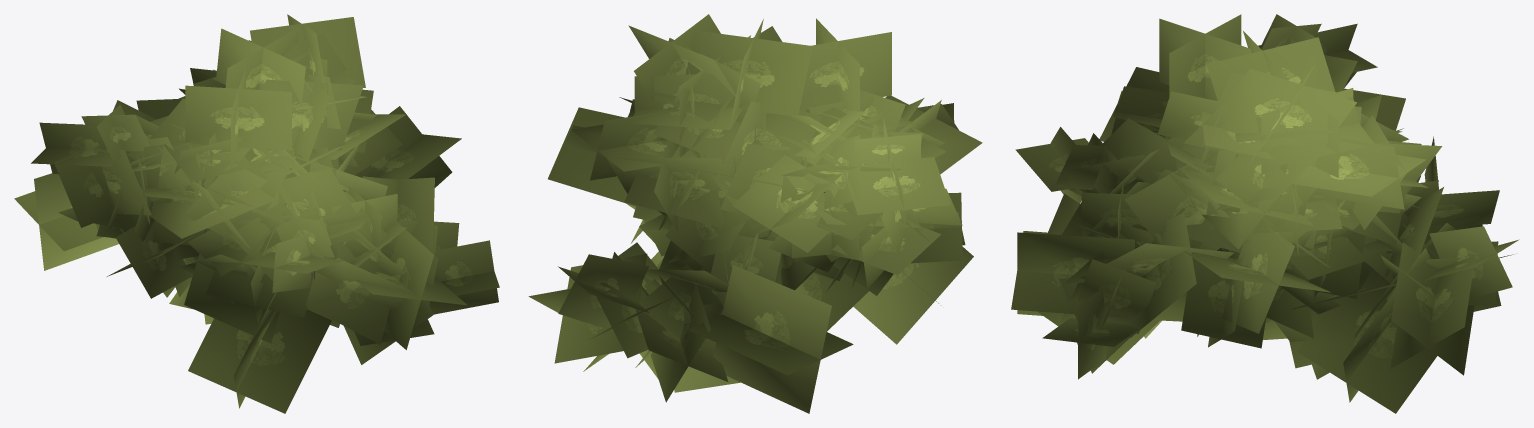
Rendered from mezquite-bajo.glb.
3 renders of one model, left to right at view 1: azimuth 30°, elevation 25°; view 2: azimuth 150°, elevation 25°; view 3: azimuth 270°, elevation 25°, orthographic. The views are drawn at different scales.
Parts seen in each view (by area): view 1: mezquite; view 2: mezquite; view 3: mezquite.
Boxes of the visible parts, x1=… form: mezquite: x1=14, y1=14, x2=499, y2=413; mezquite: x1=528, y1=14, x2=982, y2=413; mezquite: x1=1011, y1=14, x2=1519, y2=413.
Bounding box in the file's own units: 9.68 × 7.28 × 9.95.
Materials: 2 (1 with a texture image).
